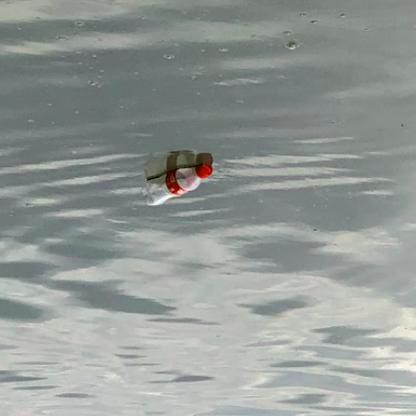Plastic: (141, 154, 215, 208)
